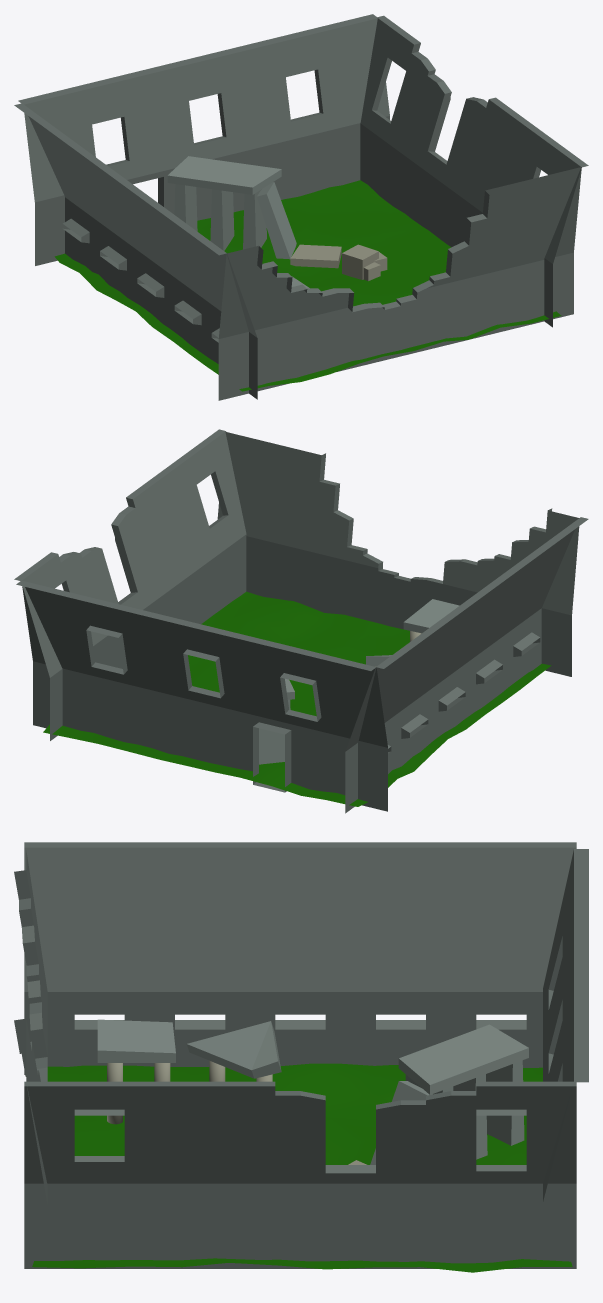
Rendered from ruins.dae.
3 views of the same model, one above another, from view 1: azimuth 30°, elevation 25°; view 2: azimuth 150°, elevation 25°; view 3: azimuth 270°, elevation 25° (orthographic). The views are drawn at different scales.
Parts seen in each view (by area): view 1: Plane_003, Plane_004, Plane_002, Plane_001, Plane, Cube, Cube_004, Cube_006, Cube_005, Cube_010, Cube_001; view 2: Plane_003, Plane_004, Plane_002, Plane_001, Plane, Cube, Cube_011; view 3: Plane_001, Plane_002, Plane, Plane_003, Cube, Plane_004, Cube_012, Cube_011, Cube_006, Cube_004.
Part boxes in pixels (x1,y1,x2,y2): Plane_003: (18, 14, 389, 265); Plane_004: (218, 167, 581, 400); Plane_002: (360, 15, 588, 327); Plane_001: (14, 103, 257, 399); Plane: (54, 180, 561, 391); Cube: (167, 156, 281, 231); Cube_004: (257, 182, 296, 259); Cube_006: (210, 189, 234, 250); Cube_005: (243, 189, 266, 249); Cube_010: (290, 244, 341, 268); Cube_001: (342, 244, 378, 279); Plane_003: (16, 580, 387, 811); Plane_004: (217, 432, 579, 676); Plane_002: (14, 429, 246, 740); Plane_001: (345, 517, 588, 813); Plane: (43, 591, 551, 806); Cube: (259, 678, 294, 764); Cube_011: (403, 599, 459, 633); Plane_001: (24, 842, 576, 1074); Plane_002: (24, 1081, 576, 1268); Plane: (32, 1063, 572, 1272); Plane_003: (543, 849, 588, 1201); Cube: (398, 1024, 528, 1145); Plane_004: (14, 850, 47, 1203); Cube_012: (186, 1021, 281, 1078); Cube_011: (97, 1019, 175, 1062); Cube_006: (453, 1074, 487, 1159); Cube_004: (370, 1081, 432, 1164).
Size of the model in its own units: 21.54 by 21.53 by 9.56.
